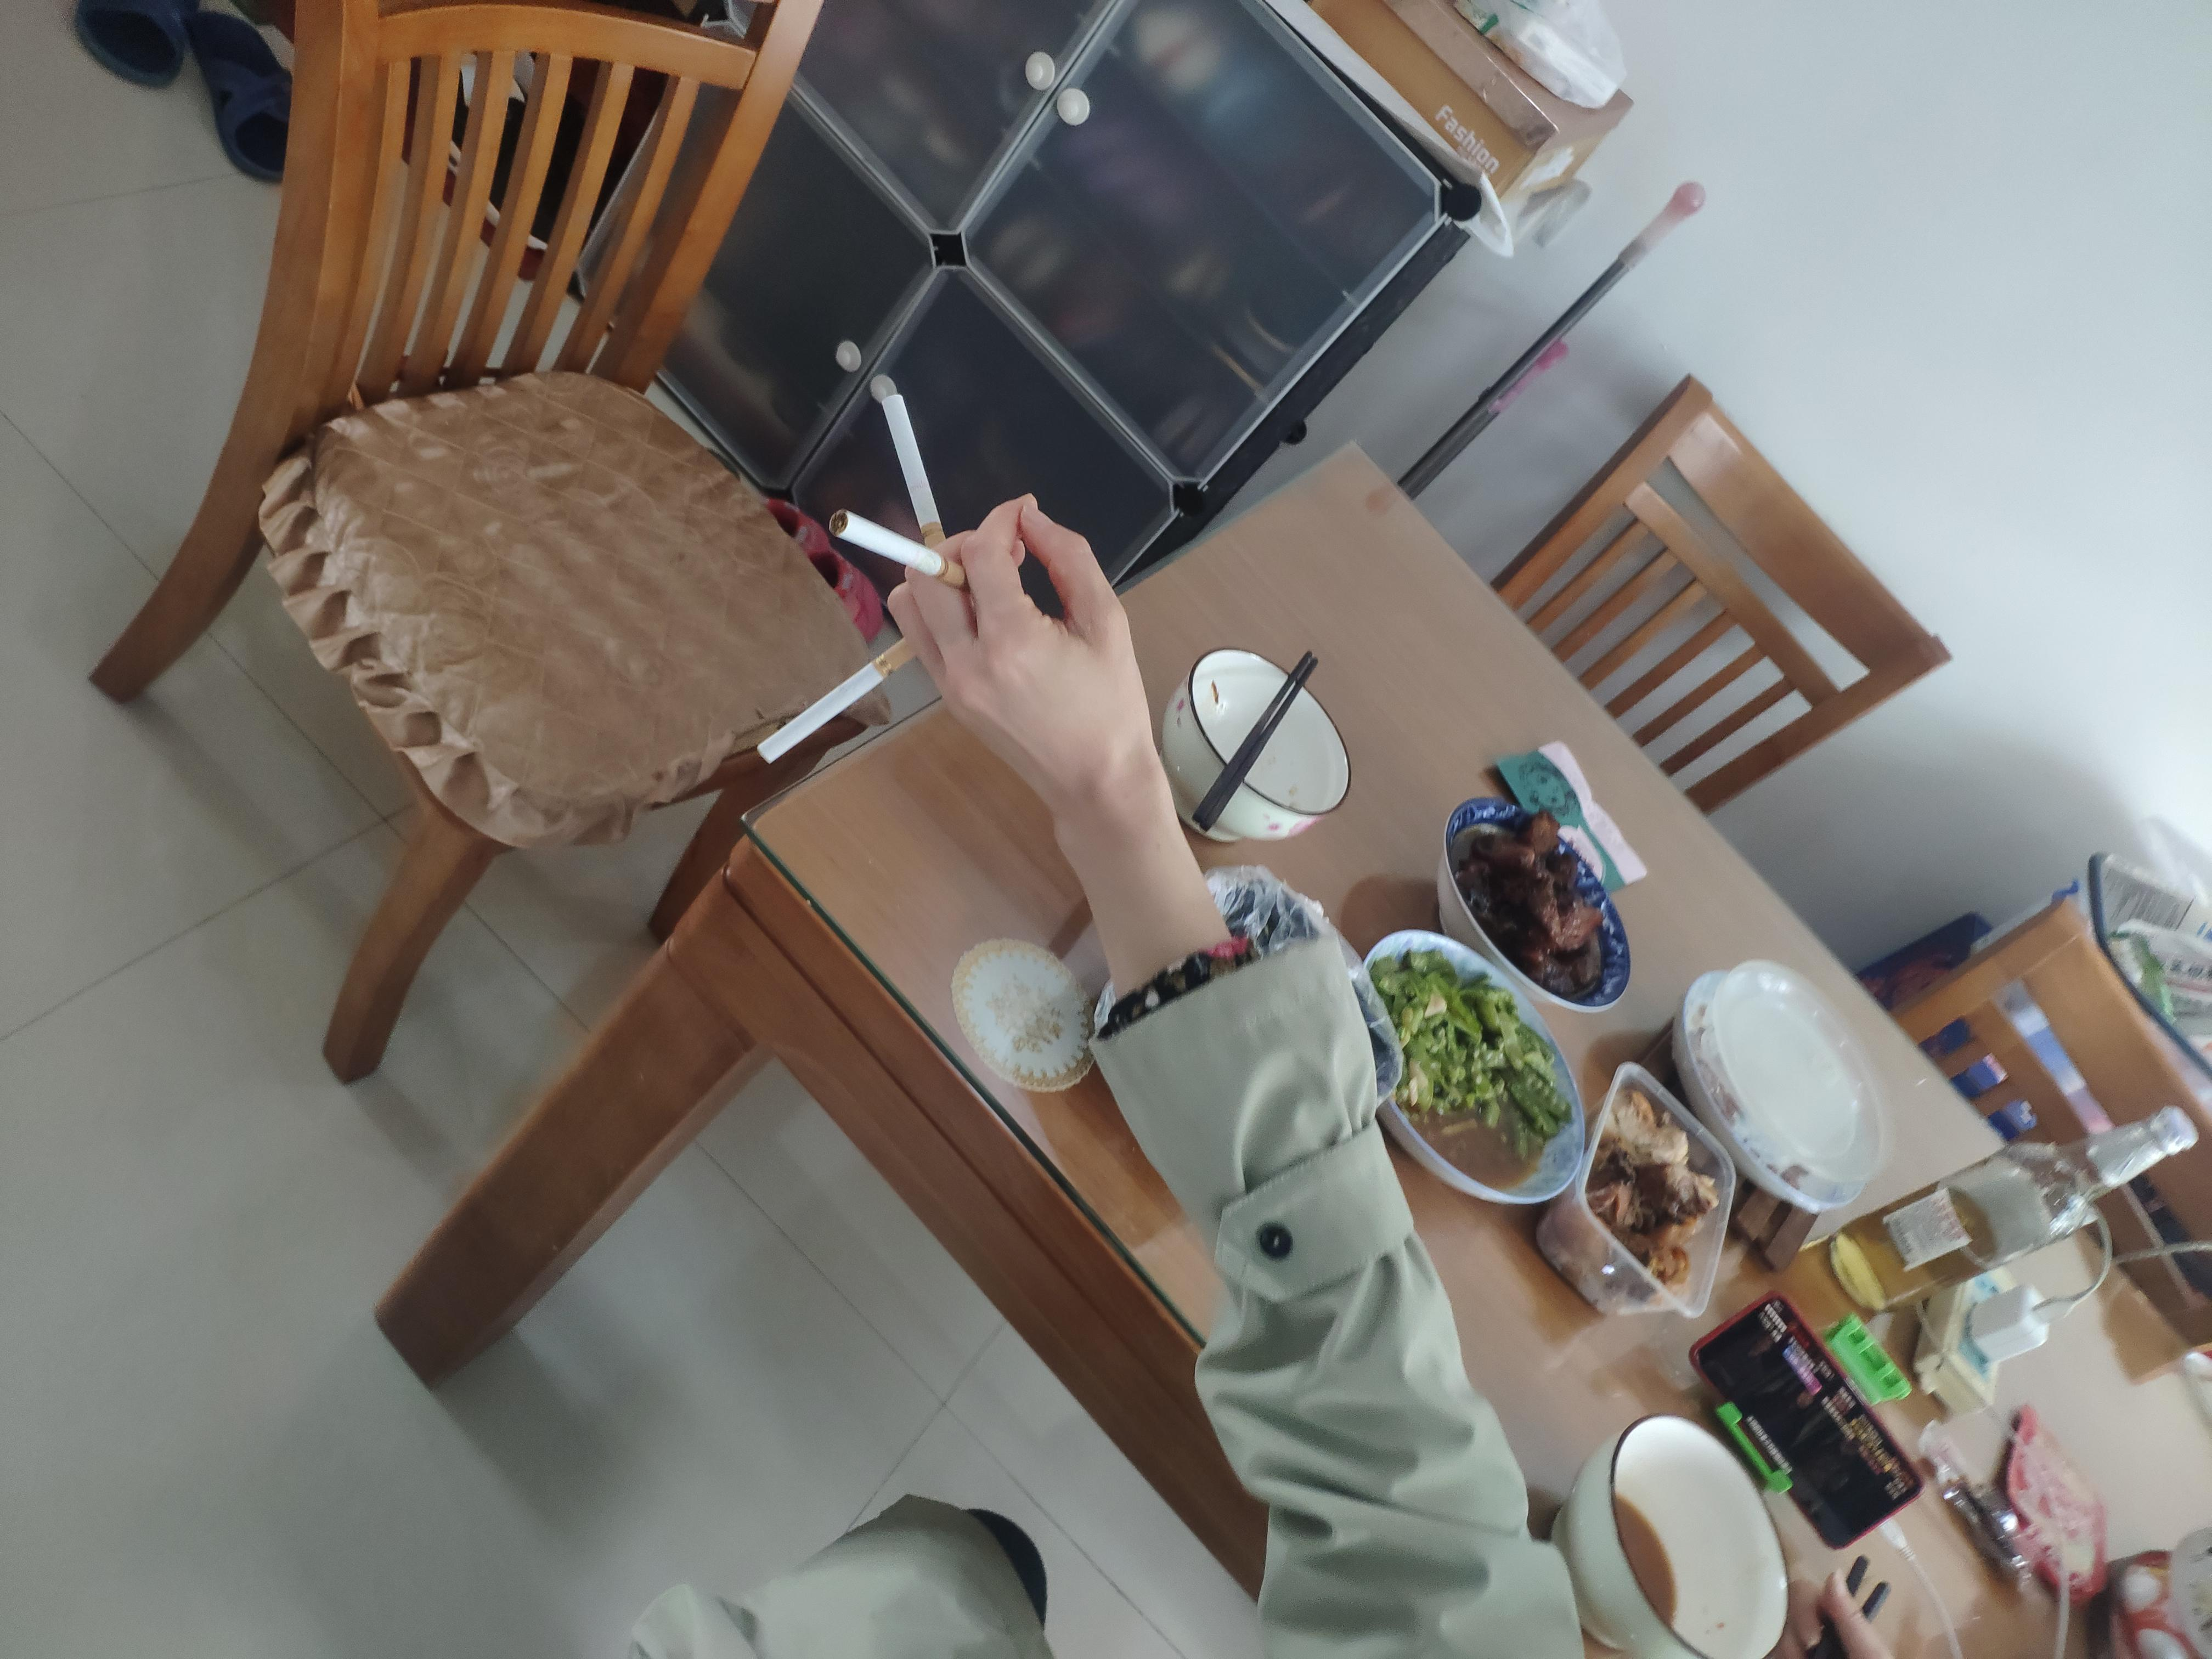smoke: (756, 631, 928, 769), (881, 392, 963, 570), (829, 507, 974, 589)
